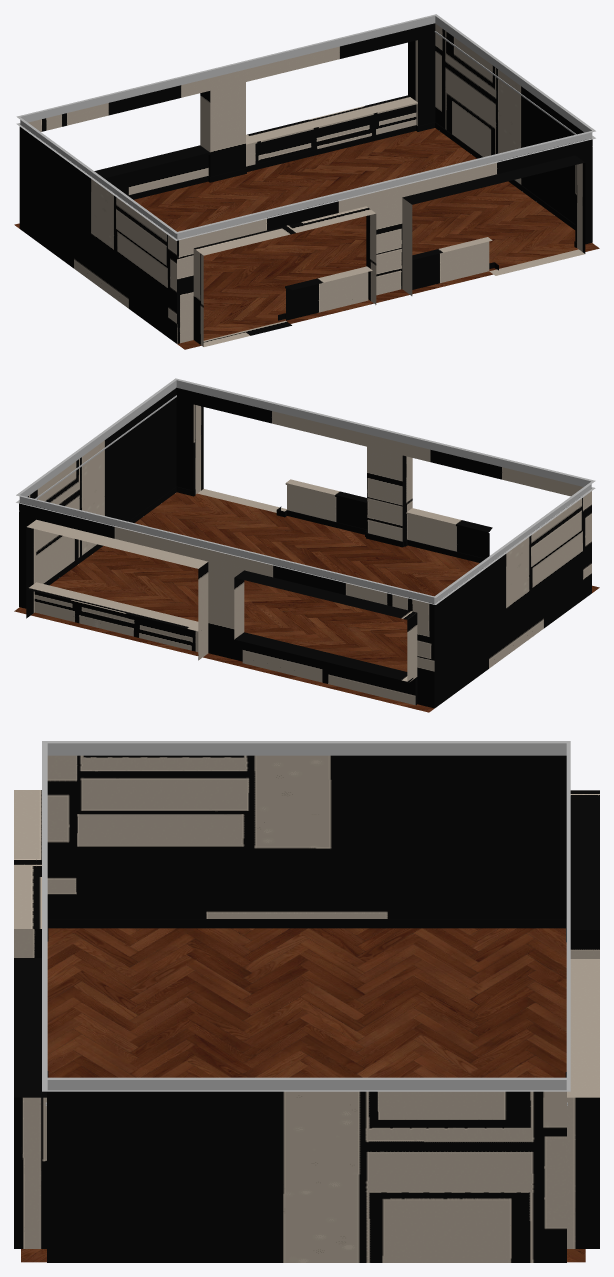
Rendered from Structure.fbx.
3 renders of one model, top to bottom at view 1: azimuth 30°, elevation 25°; view 2: azimuth 150°, elevation 25°; view 3: azimuth 270°, elevation 25°, orthographic. The views are drawn at different scales.
Parts seen in each view (by area): view 1: Wall_04, FLOOR1, Ceiling_Border, Skirting; view 2: Wall_04, FLOOR1, Ceiling_Border, Skirting; view 3: Wall_04, FLOOR1, Ceiling_Border, Skirting.
Part boxes in pixels (x1=…): Wall_04: x1=19, y1=23, x2=592, y2=346; FLOOR1: x1=14, y1=128, x2=599, y2=349; Ceiling_Border: x1=16, y1=14, x2=595, y2=240; Skirting: x1=128, y1=122, x2=576, y2=320; Wall_04: x1=19, y1=387, x2=591, y2=708; FLOOR1: x1=14, y1=492, x2=599, y2=712; Ceiling_Border: x1=16, y1=378, x2=595, y2=604; Skirting: x1=43, y1=486, x2=485, y2=585; Wall_04: x1=14, y1=755, x2=599, y2=1262; FLOOR1: x1=21, y1=928, x2=585, y2=1262; Ceiling_Border: x1=42, y1=741, x2=570, y2=1091; Skirting: x1=47, y1=919, x2=566, y2=1077.
Bounding box in the file's own units: 1562 × 399 × 1142.
